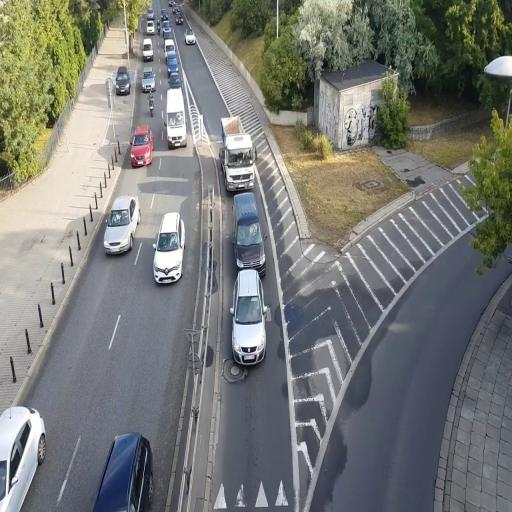vehicle: (0, 403, 46, 511), (93, 432, 154, 512), (230, 269, 268, 366), (220, 114, 256, 195), (220, 114, 256, 194), (234, 192, 266, 274), (152, 211, 186, 286), (104, 195, 140, 254), (165, 86, 186, 150), (130, 125, 153, 169), (113, 68, 131, 95), (141, 68, 156, 92), (184, 29, 196, 45)
